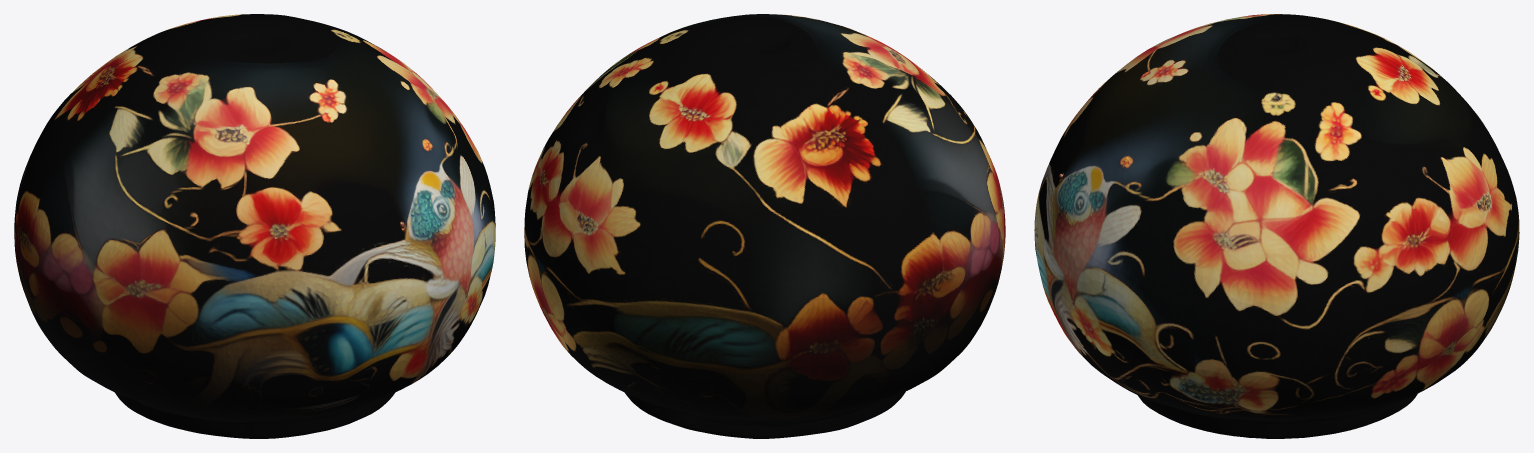
The model's file is ceramic-paperweight-japanese.jpeg.glb.
The picture shows the model from 3 angles, left to right: view 1: azimuth 30°, elevation 25°; view 2: azimuth 150°, elevation 25°; view 3: azimuth 270°, elevation 25°; orthographic projection.
Visible parts, largest first — view 1: world; view 2: world; view 3: world.
Boxes of the visible parts, <box> form: world: <box>14,14,495,438</box>; world: <box>524,14,1005,438</box>; world: <box>1034,14,1519,438</box>.
Bounding box in the file's own units: 0.9952 × 0.7657 × 0.9972.
Materials: 1 (1 with a texture image).
